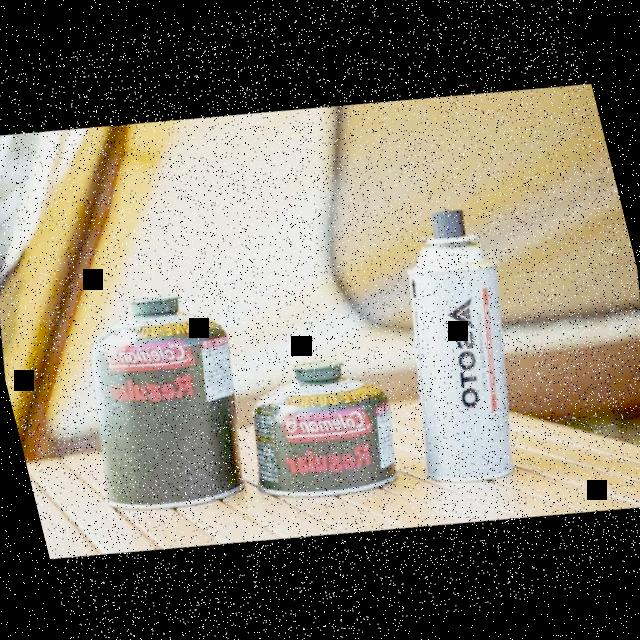chemical_spray_can: (340, 175, 584, 526)
